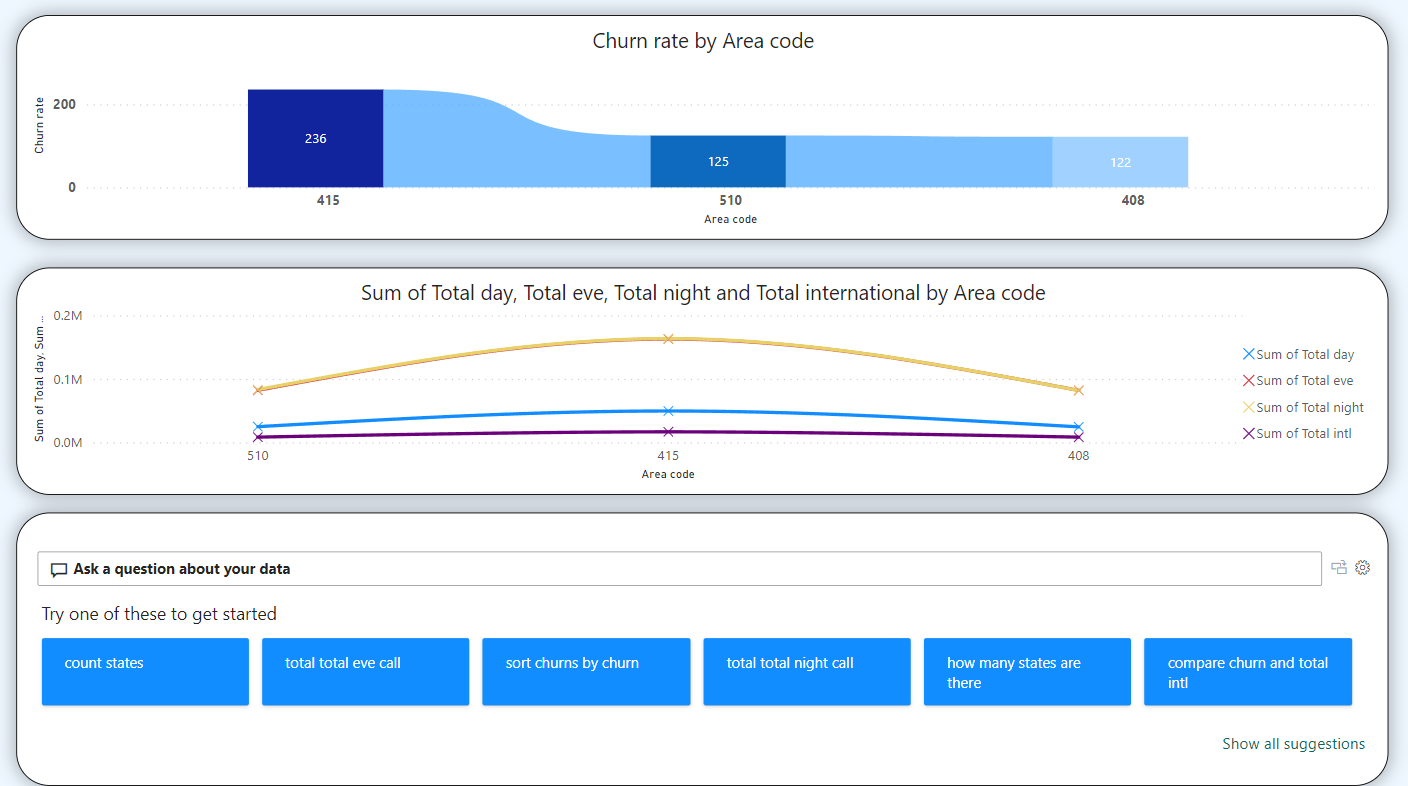

The page's visual inventory and layout, read from the dashboard file:
{"tool":"powerbi","page":{"name":"Data chart & Q&A","canvas":[1280,720],"ordinal":1},"visuals":[{"type":"qnaVisual","title":"QNA","box":[19.2,530.1,1241.1,189.9],"z":0},{"type":"ribbonChart","title":"Churn rate by Area code","fields":{"Category":["Churn.Area code"],"Y":["Sum(Churn.Churn)"]},"box":[19.2,22.6,1241.1,241.9],"z":1000},{"type":"lineChart","title":"Sum of Total day, Total eve, Total night and Total international by Area code","fields":{"Category":["Churn.Area code"],"Y":["Sum(Churn.Total day)","Sum(Churn.Total eve)","Sum(Churn.Total night)","Sum(Churn.Total intl)"]},"box":[19.2,282.6,1241.1,235.1],"z":2000}]}

Visuals, with their boxes in screenshot pixels (x1, y1, x2, y2), scaled from the page's 1280x720 canvas onto the 1408x786 screenshot:
"QNA" qnaVisual: bbox(21, 579, 1386, 785)
"Churn rate by Area code" ribbonChart: bbox(21, 25, 1386, 289)
"Sum of Total day, Total eve, Total night and Total international by Area code" lineChart: bbox(21, 309, 1386, 565)
